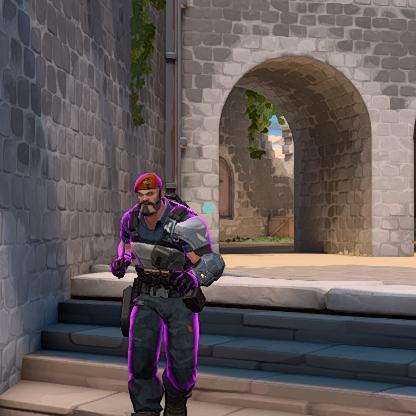enemyBody: (142, 215, 179, 296)
enemyHead: (138, 186, 161, 208)
